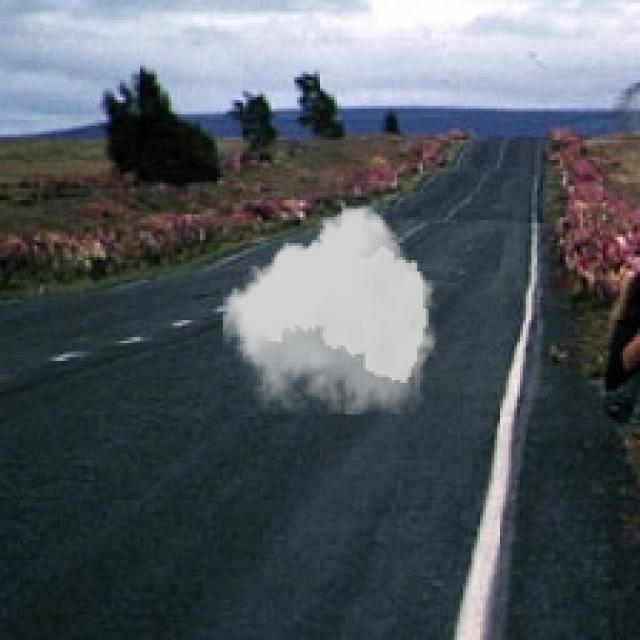Smoke: (222, 206, 438, 414)
